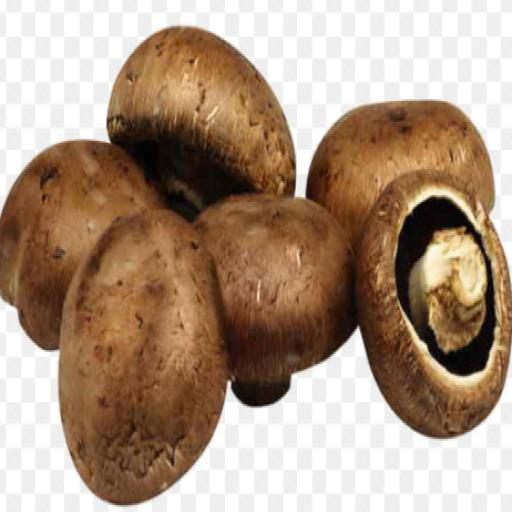Button Mushroom: (55, 195, 229, 503), (355, 172, 512, 442), (108, 20, 302, 219), (191, 191, 364, 410), (0, 135, 162, 359), (306, 86, 501, 226)
